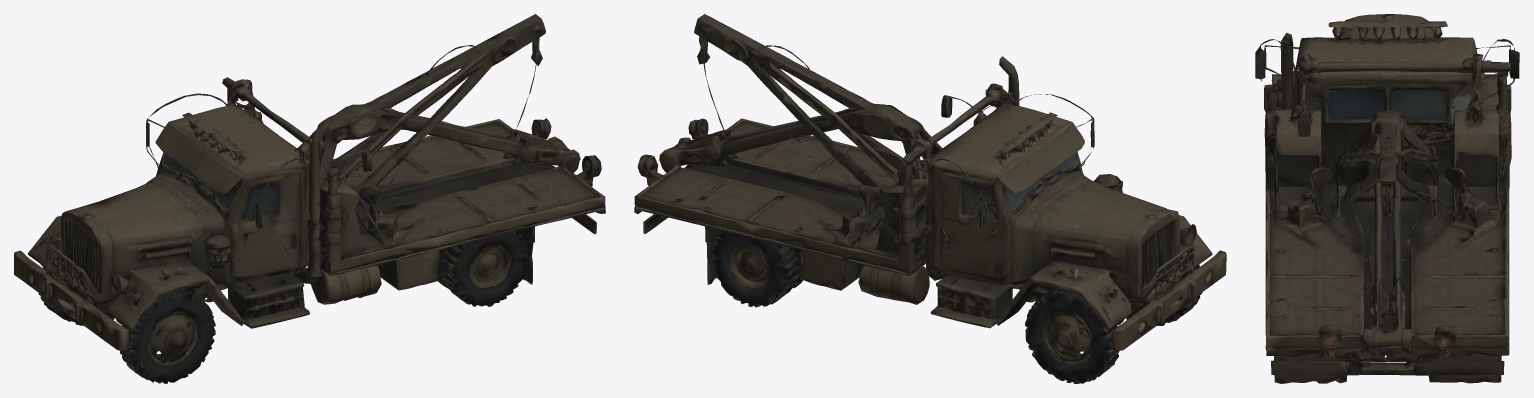
File: car_towtruck_light_q4.glb
The picture shows the model from 3 angles, left to right: view 1: azimuth 30°, elevation 25°; view 2: azimuth 150°, elevation 25°; view 3: azimuth 270°, elevation 25°; orthographic projection. The views are drawn at different scales.
Bounding box in the file's own units: 5.33 × 2.3 × 2.08.
1 material, 1 textured.
